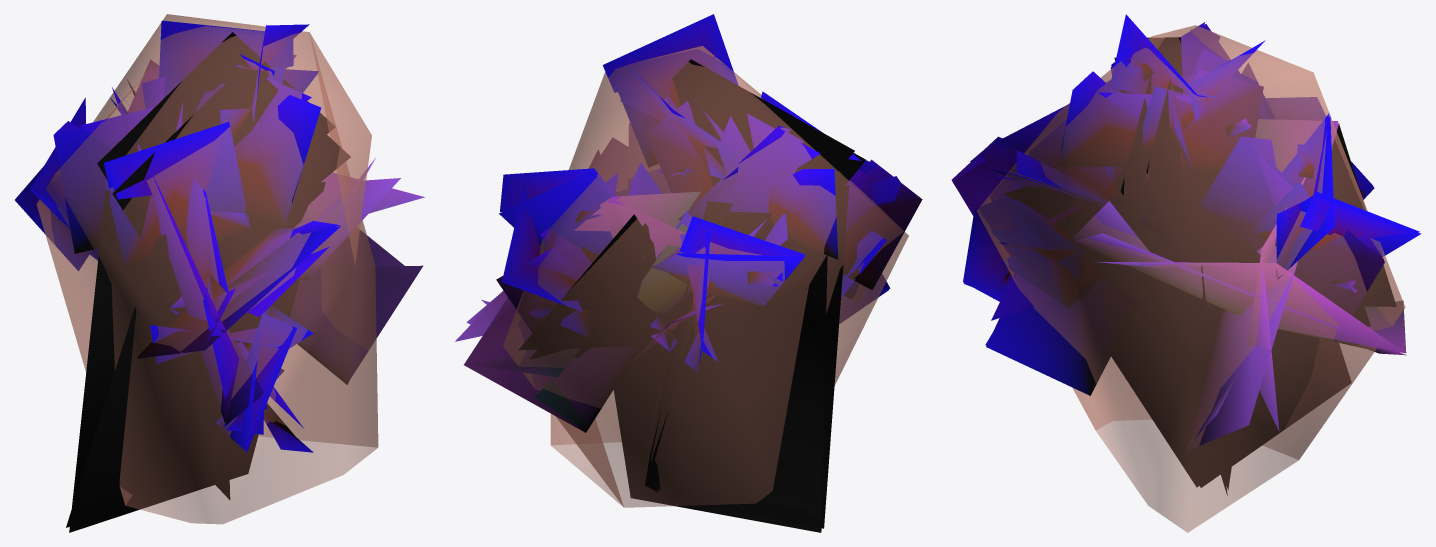
Rendered from tree_oak_bush_c.dae.
3 renders of one model, left to right at view 1: azimuth 30°, elevation 25°; view 2: azimuth 150°, elevation 25°; view 3: azimuth 270°, elevation 25°, orthographic. The views are drawn at different scales.
Visible parts, largest first — view 1: Colmesh_bush_03-1, OakBush_03_a600, OakBush_03_a200; view 2: Colmesh_bush_03-1, OakBush_03_a200, OakBush_03_a600; view 3: Colmesh_bush_03-1, OakBush_03_a600, OakBush_03_a200.
Boxes of the visible parts, <box> form: Colmesh_bush_03-1: <box>36,14,378,524</box>; OakBush_03_a600: <box>15,20,424,527</box>; OakBush_03_a200: <box>30,32,404,532</box>; Colmesh_bush_03-1: <box>503,46,908,507</box>; OakBush_03_a200: <box>464,59,888,532</box>; OakBush_03_a600: <box>455,14,922,528</box>; Colmesh_bush_03-1: <box>976,25,1405,532</box>; OakBush_03_a600: <box>951,14,1419,489</box>; OakBush_03_a200: <box>952,24,1421,495</box>.
Bounding box in the file's own units: 2.51 × 2.81 × 3.11.
